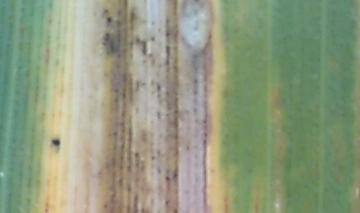tarspot: (49, 134, 63, 150)
